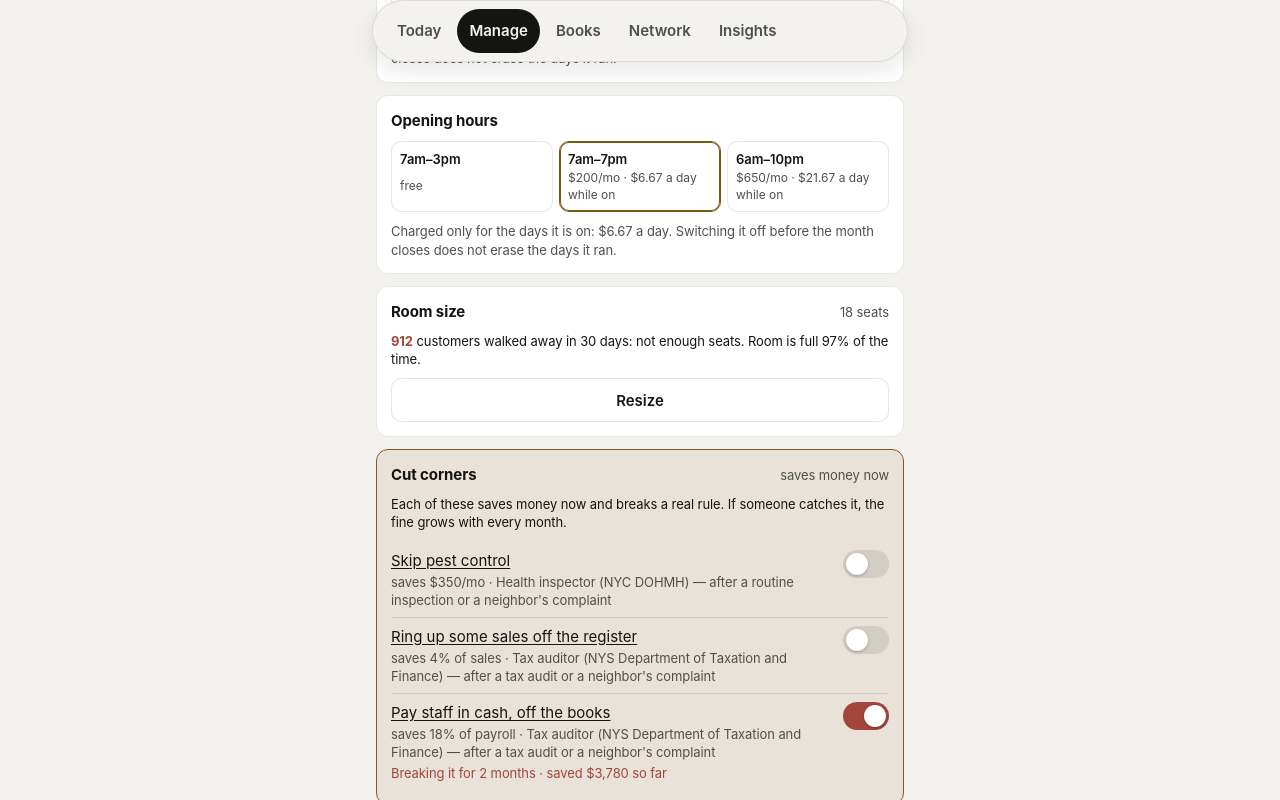
Scenario: Manage → Apply › Resize shows the month with the new room before it is pressed (docs/qa/BUGS.md #17)
(page scrolled)
Click the button "Resize" at (640,400), box [391,378,889,422]
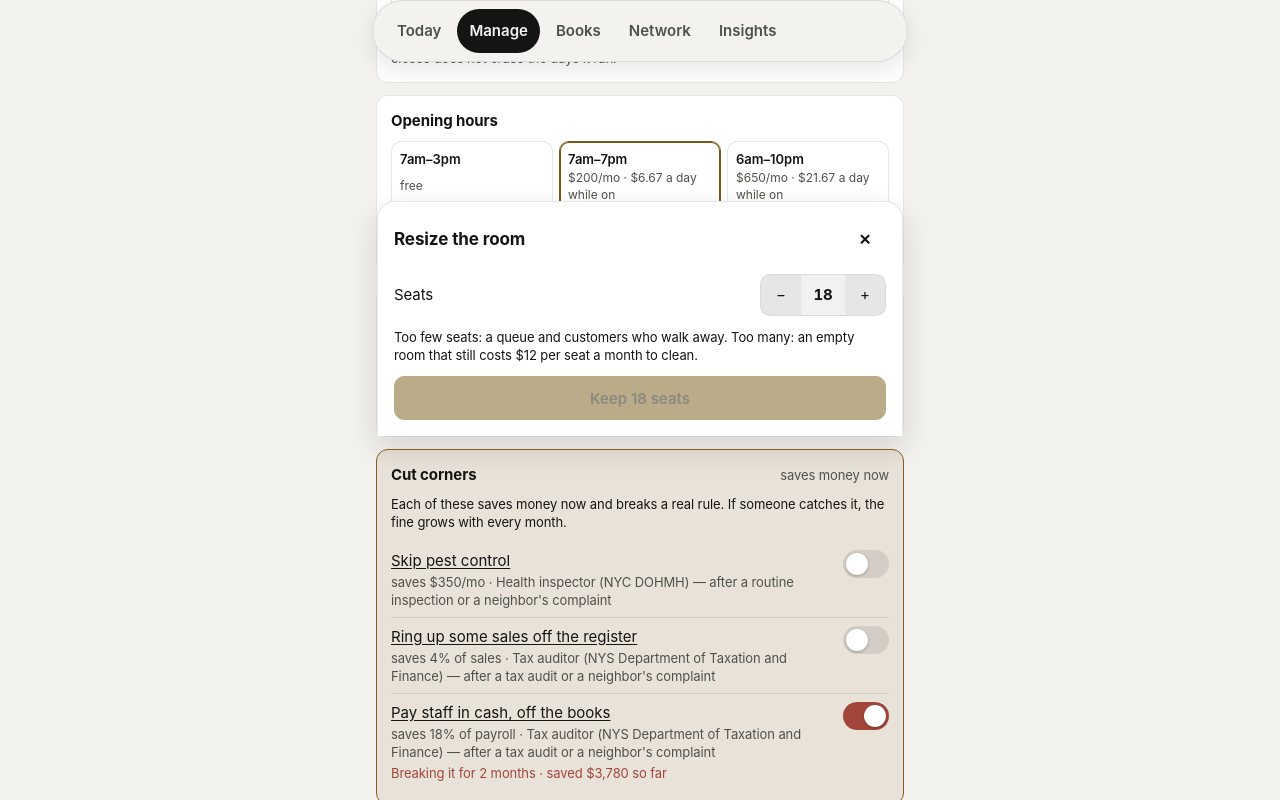
Click the button named "More seats" at (865,295), box [845,275,885,315]
(page scrolled)
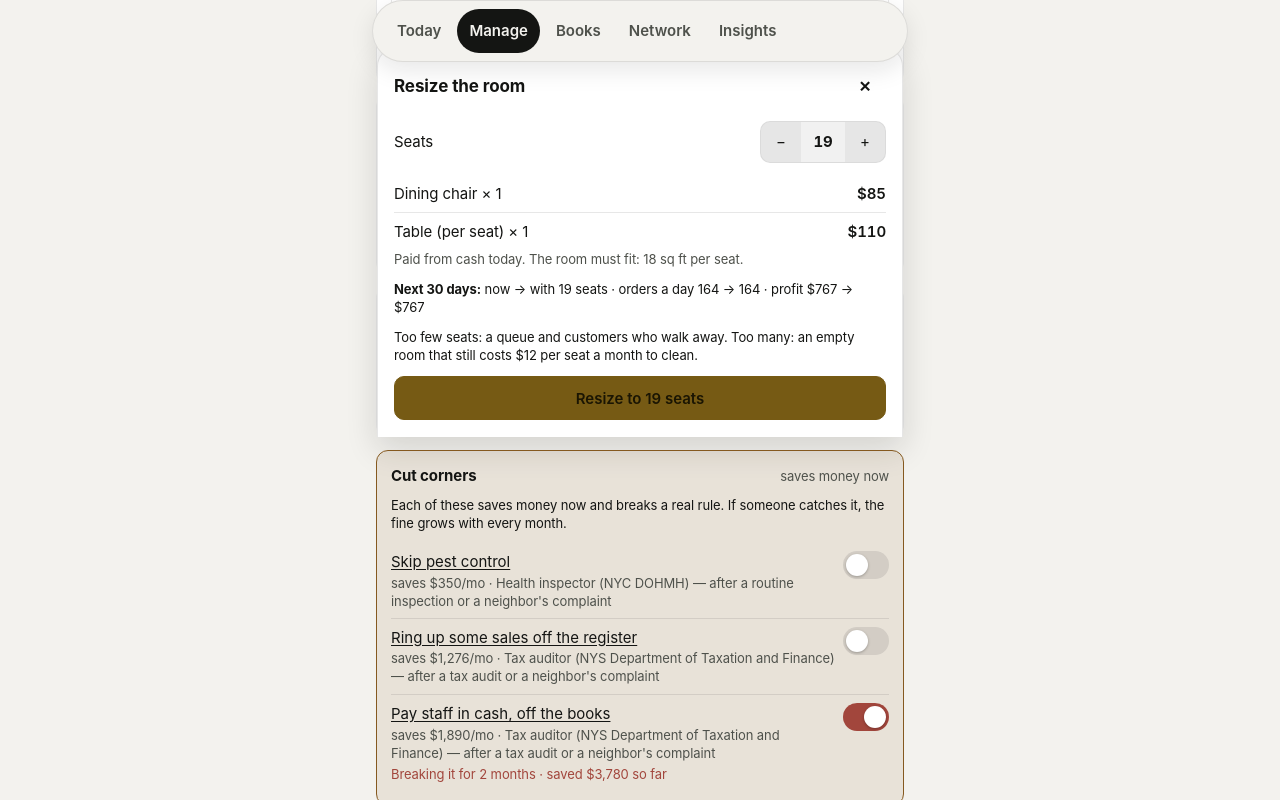
Now the element with test id "resize-forecast" reads "Next 30 days: now → with 19 seats · orders a day 164 → 164 · profit $767 → $767", box [394,280,886,316]
